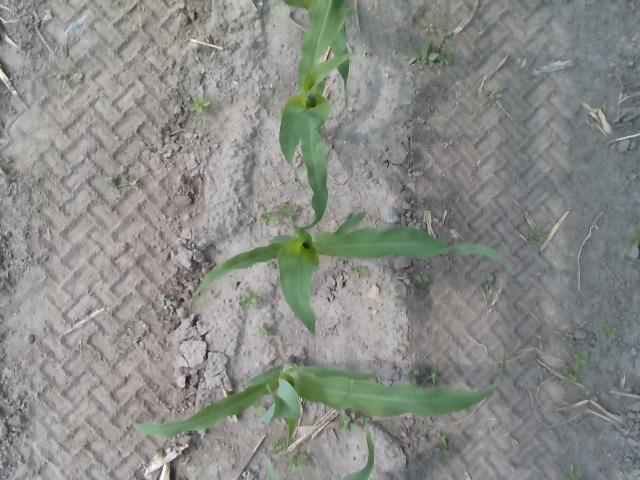Maize: (186, 212, 512, 346), (130, 352, 508, 439), (278, 0, 348, 230), (280, 0, 359, 107), (265, 423, 375, 480)
Weeds: (411, 40, 454, 68), (188, 94, 217, 114), (286, 451, 310, 474), (53, 69, 83, 86), (560, 364, 584, 383), (241, 290, 263, 310), (436, 432, 454, 456), (339, 408, 356, 432), (421, 366, 441, 386), (410, 275, 431, 294), (529, 226, 548, 245), (571, 350, 589, 370), (280, 202, 298, 220), (260, 210, 280, 226), (600, 324, 617, 340), (349, 264, 368, 278), (626, 227, 640, 246), (482, 272, 494, 294), (438, 30, 454, 46), (256, 323, 274, 337), (120, 174, 140, 186), (561, 469, 580, 480), (485, 88, 502, 100), (408, 368, 419, 386), (271, 438, 287, 450), (394, 294, 407, 308), (422, 21, 435, 34), (252, 399, 265, 411), (158, 296, 170, 306), (106, 176, 116, 188), (155, 448, 166, 458), (478, 100, 489, 108), (361, 414, 369, 424), (371, 467, 377, 476)
